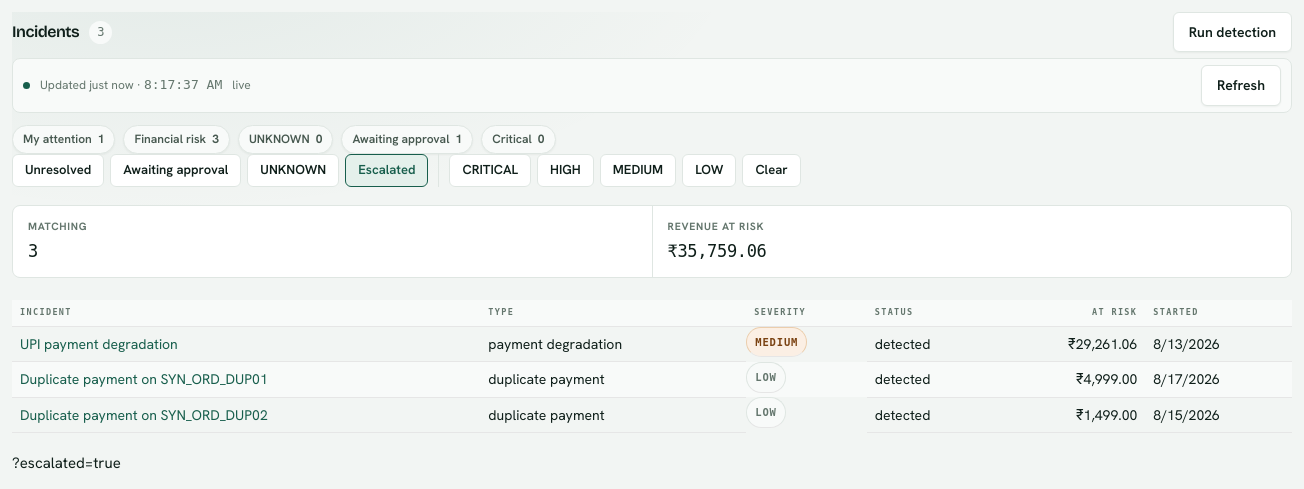
Test case: filtering and saved views › a view replaces the filter rather than merging into it
This screenshot has width=1304, height=489.
Expected: the table named "Open incidents" is shown, [12, 300, 1292, 433]
Click the button with aria-label "Saved view: Critical": (518, 139) [481, 125, 556, 154]
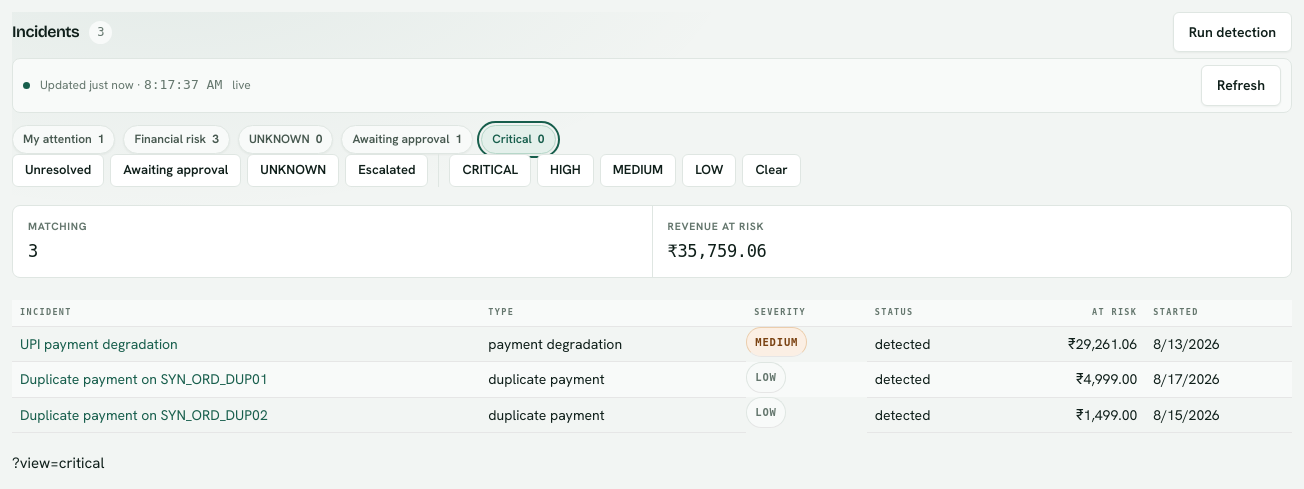
Expected: the text with test id "location" shows "view=critical", [12, 453, 104, 473]
Expected: the text with test id "location" no longer shows "escalated=true", [12, 453, 104, 473]
